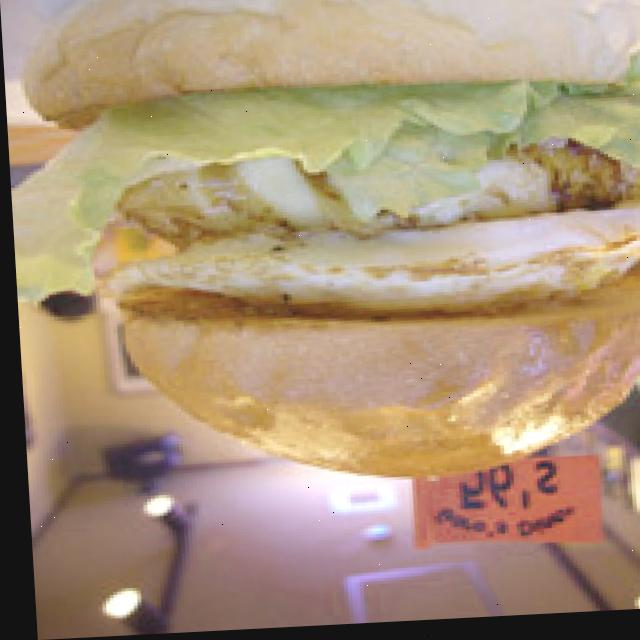汉堡快餐: (23, 0, 640, 513)
